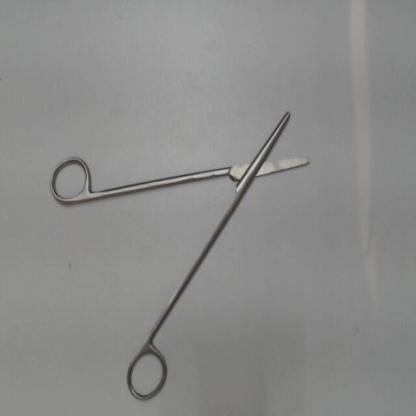9 Metzenbaum Scissors: (44, 107, 317, 407)
